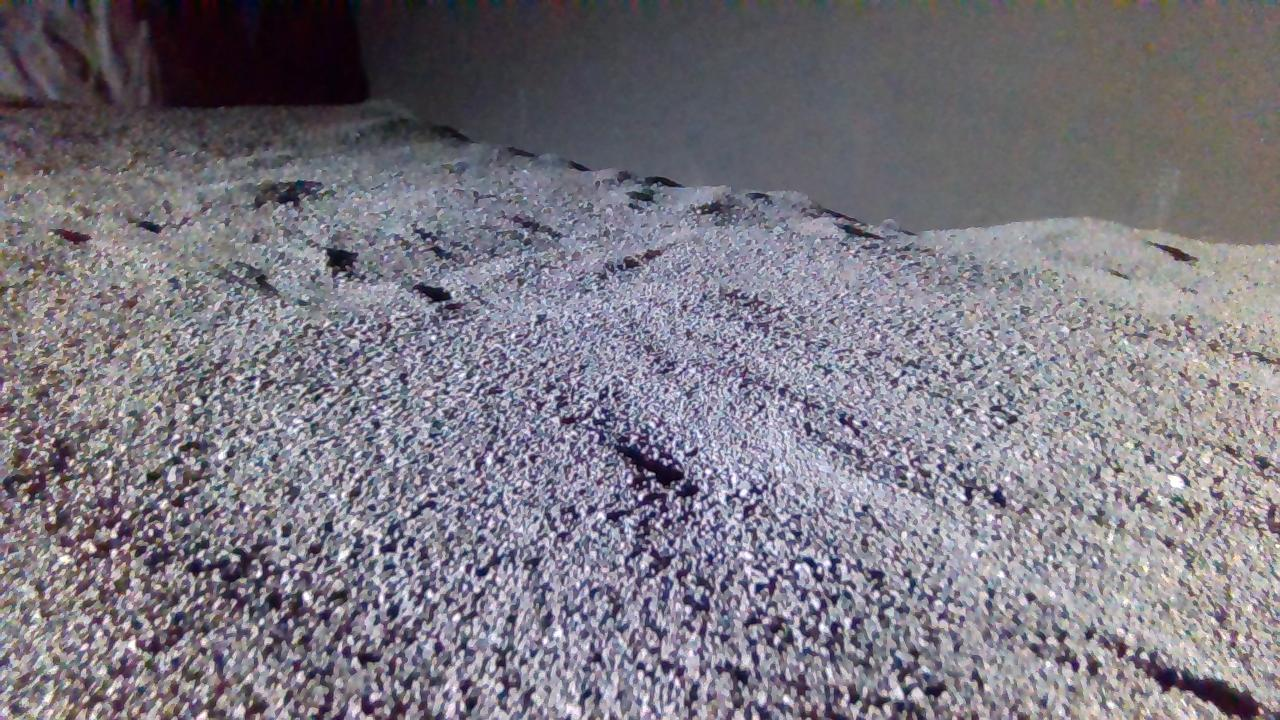rock: (0, 4, 222, 103)
